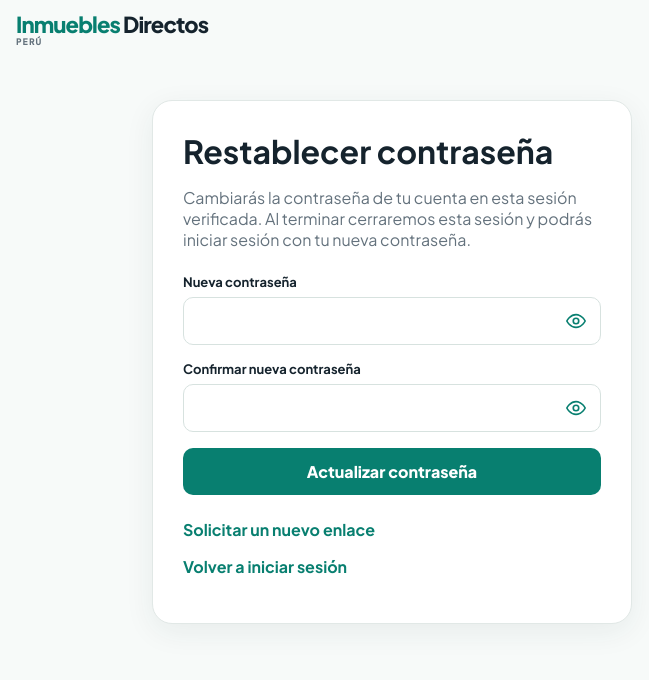
Test: verified self password update › rejects password below eight characters: short
Type "short" into the password field labelled "Nueva contraseña".
click(392, 321); type("short")  # box [183,297,601,345]
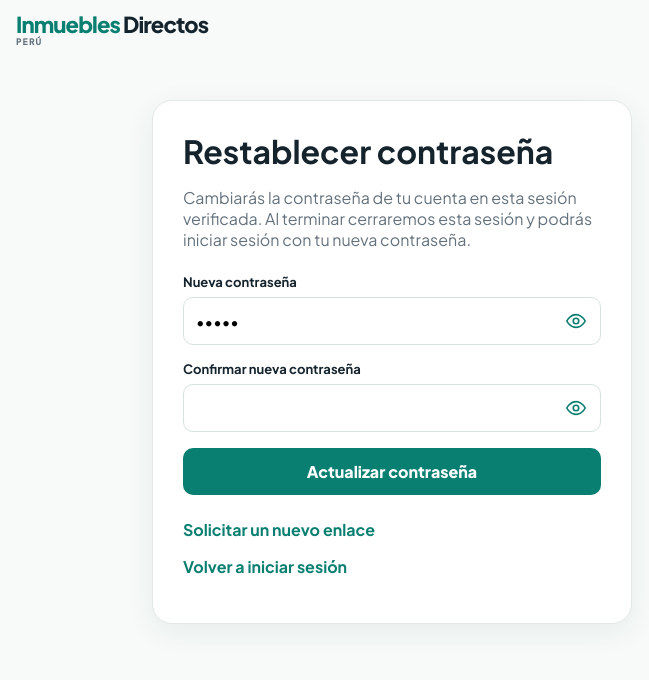
Type "short" into the password field labelled "Confirmar nueva contraseña".
click(392, 408); type("short")  # box [183,384,601,432]
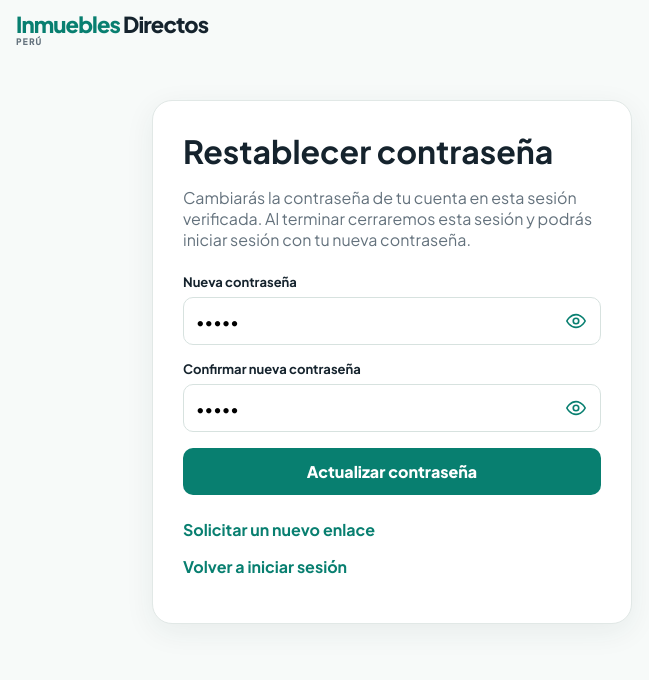
Submit the form labelled "Nueva contraseña", box [183,274,601,495]
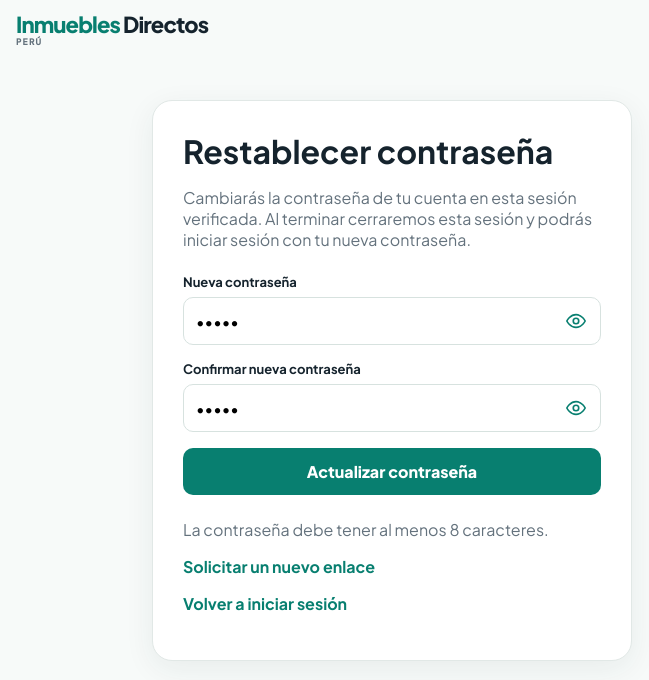
Check: the message shows "8 caracteres", box [183,519,549,540]
